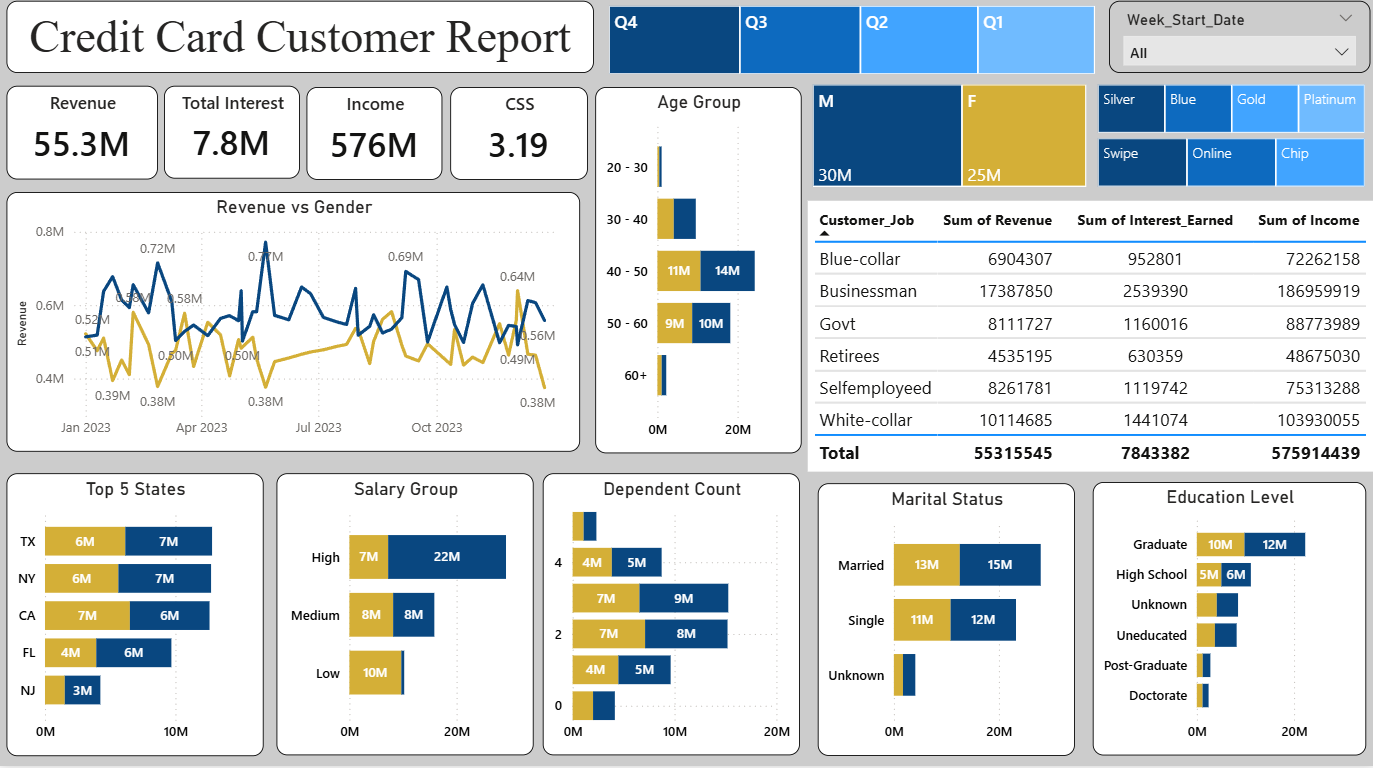

The dashboard page shown, as its layout file describes it:
{"tool":"powerbi","page":{"name":"Customer Report","canvas":[1280,720],"ordinal":1},"visuals":[{"type":"barChart","title":"Salary Group","fields":{"Category":["creditcarddb customer.IncomeGroup"],"Y":["Sum(creditcarddb credit_card.Revenue)"],"Series":["creditcarddb customer.Gender"]},"box":[258.1,447.7,239.5,262.8],"z":0},{"type":"textbox","box":[7,8.4,546.4,67.3],"z":1000},{"type":"tableEx","fields":{"Values":["creditcarddb customer.Customer_Job","Sum(creditcarddb credit_card.Revenue)","Sum(creditcarddb credit_card.Interest_Earned)","Sum(creditcarddb customer.Income)"]},"box":[752.3,194.2,526.7,252.3],"z":2000},{"type":"cardVisual","title":"Revenue","fields":{"Data":["Sum(creditcarddb credit_card.Revenue)"]},"box":[7,87.2,140.7,87.2],"z":3000},{"type":"cardVisual","title":"Total Interest","fields":{"Data":["Sum(creditcarddb credit_card.Interest_Earned)"]},"box":[153.5,87.2,126.7,86],"z":4000},{"type":"cardVisual","title":"Income","fields":{"Data":["Sum(creditcarddb customer.Income)"]},"box":[286,88.4,126.7,86],"z":5000},{"type":"cardVisual","title":"CSS","fields":{"Data":["Avg(creditcarddb customer.Cust_Satisfaction_Score)"]},"box":[419.8,88.4,127.9,86],"z":6000},{"type":"slicer","fields":{"Values":["creditcarddb credit_card.Week_Start_Date"]},"box":[1032.6,8.1,243,67.4],"z":7000},{"type":"treemap","fields":{"Group":["creditcarddb credit_card.Qtr"],"Values":["Avg(creditcarddb credit_card.Client_Num)"]},"box":[562.8,8.1,461.6,73.3],"z":8000},{"type":"treemap","fields":{"Values":["Avg(creditcarddb credit_card.Client_Num)"],"Group":["creditcarddb credit_card.Card_Category"]},"box":[1017.4,81.4,258.1,54.7],"z":9000},{"type":"lineChart","title":"Revenue vs Gender","fields":{"Category":["creditcarddb credit_card.Week_Start_Date"],"Y":["Sum(creditcarddb credit_card.Revenue)"],"Series":["creditcarddb customer.Gender"]},"box":[7,186,533.7,241.9],"z":10000},{"type":"treemap","fields":{"Group":["creditcarddb customer.Gender"],"Values":["Sum(creditcarddb credit_card.Revenue)"]},"box":[752.3,81.4,264,104.7],"z":11000},{"type":"barChart","title":"Age Group","fields":{"Category":["creditcarddb customer.AgeGroup"],"Y":["Sum(creditcarddb credit_card.Revenue)"],"Series":["creditcarddb customer.Gender"]},"box":[554.7,88.4,191.9,340.7],"z":12000},{"type":"barChart","title":"Education Level","fields":{"Category":["creditcarddb customer.Education_Level"],"Y":["Sum(creditcarddb credit_card.Revenue)"],"Series":["creditcarddb customer.Gender"]},"box":[1017.4,455.8,254.7,254.7],"z":13000},{"type":"barChart","title":"Dependent Count","fields":{"Category":["creditcarddb customer.Dependent_Count"],"Y":["Sum(creditcarddb credit_card.Revenue)"],"Series":["creditcarddb customer.Gender"]},"box":[505.8,447.7,239.5,262.8],"z":14000},{"type":"barChart","title":"Top 5 States","fields":{"Category":["creditcarddb customer.state_cd"],"Y":["Sum(creditcarddb credit_card.Revenue)"],"Series":["creditcarddb customer.Gender"]},"box":[7,447.7,239,263],"z":15000},{"type":"barChart","title":"Marital Status","fields":{"Category":["creditcarddb customer.Marital_Status"],"Y":["Sum(creditcarddb credit_card.Revenue)"],"Series":["creditcarddb customer.Gender"]},"box":[761.6,457,239.5,253.5],"z":16000},{"type":"treemap","fields":{"Values":["Avg(creditcarddb credit_card.Client_Num)"],"Group":["creditcarddb credit_card.Use Chip"]},"box":[1017.4,131.4,258.1,54.7],"z":17000}]}

Visuals, with their boxes in screenshot pixels (x1, y1, x2, y2), scaled from the page's 1280x720 canvas onto the 1373x768 screenshot:
"Salary Group" barChart: locate(277, 478, 534, 758)
textbox: locate(8, 9, 594, 81)
tableEx - creditcarddb customer.Customer_Job x Sum(creditcarddb credit_card.Revenue): locate(807, 207, 1372, 476)
"Revenue" cardVisual: locate(8, 93, 158, 186)
"Total Interest" cardVisual: locate(165, 93, 301, 185)
"Income" cardVisual: locate(307, 94, 443, 186)
"CSS" cardVisual: locate(450, 94, 587, 186)
slicer - creditcarddb credit_card.Week_Start_Date: locate(1108, 9, 1368, 81)
treemap - creditcarddb credit_card.Qtr x Avg(creditcarddb credit_card.Client_Num): locate(604, 9, 1099, 87)
treemap - Avg(creditcarddb credit_card.Client_Num) x creditcarddb credit_card.Card_Category: locate(1091, 87, 1368, 145)
"Revenue vs Gender" lineChart: locate(8, 198, 580, 456)
treemap - creditcarddb customer.Gender x Sum(creditcarddb credit_card.Revenue): locate(807, 87, 1090, 199)
"Age Group" barChart: locate(595, 94, 801, 458)
"Education Level" barChart: locate(1091, 486, 1365, 758)
"Dependent Count" barChart: locate(543, 478, 799, 758)
"Top 5 States" barChart: locate(8, 478, 264, 758)
"Marital Status" barChart: locate(817, 487, 1074, 758)
treemap - Avg(creditcarddb credit_card.Client_Num) x creditcarddb credit_card.Use Chip: locate(1091, 140, 1368, 199)
